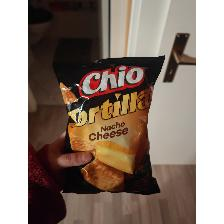Chips: (50, 54, 166, 196)
